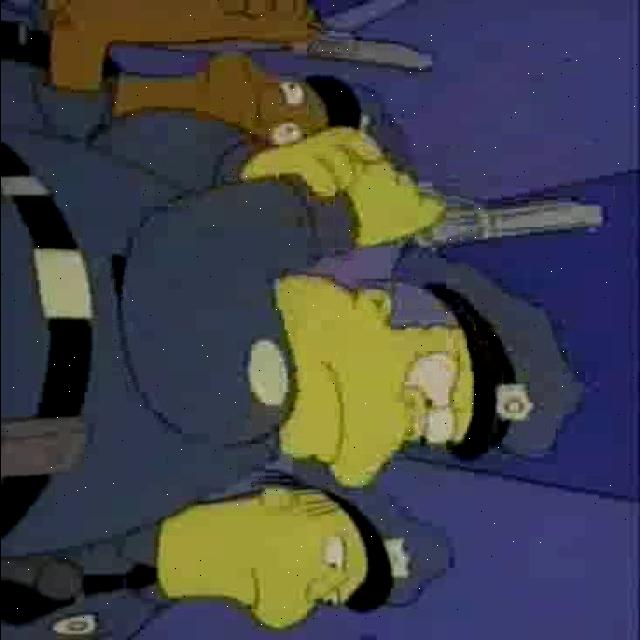Chief Wiggam: (276, 246, 590, 492)
